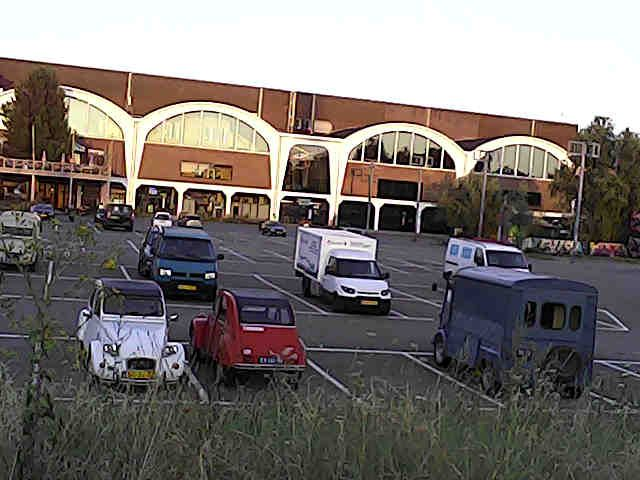suv: (433, 267, 597, 396), (77, 278, 185, 383), (190, 289, 305, 383), (138, 227, 223, 298), (443, 237, 531, 276), (0, 211, 40, 270), (102, 204, 135, 231), (260, 221, 286, 236), (30, 203, 54, 219), (176, 214, 202, 227), (152, 211, 172, 226), (94, 205, 105, 223)
whitevan: (294, 227, 390, 314), (96, 203, 134, 231), (175, 213, 202, 228), (259, 221, 286, 236)
